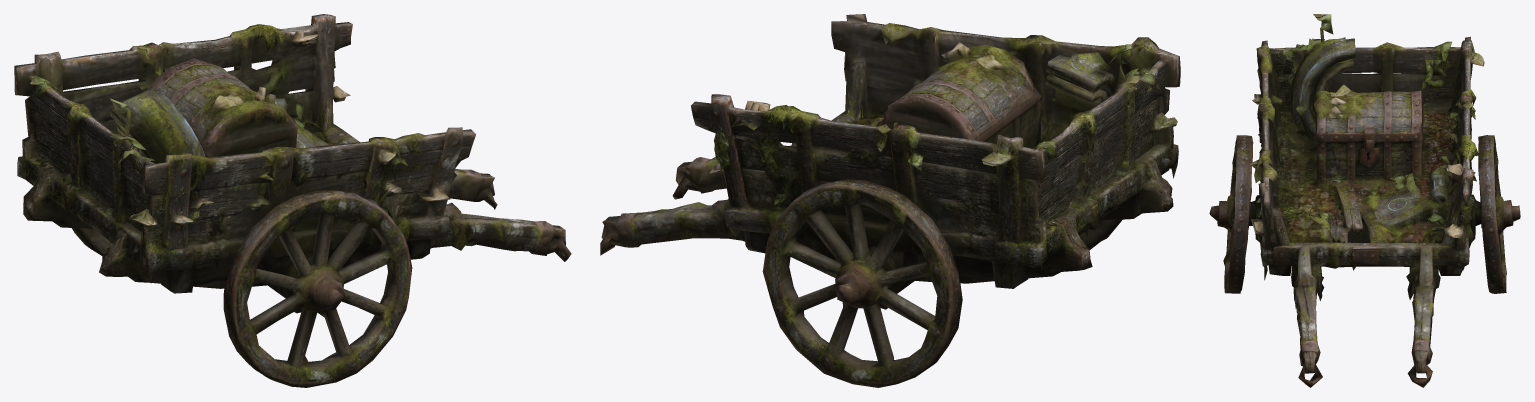
File: env_bw_cart.glb
The picture shows the model from 3 angles, left to right: view 1: azimuth 30°, elevation 25°; view 2: azimuth 150°, elevation 25°; view 3: azimuth 270°, elevation 25°; orthographic projection. The views are drawn at different scales.
Parts seen in each view (by area): view 1: tripo_node_f423cf80-a54a-4791-a0dd-53c70de55af1; view 2: tripo_node_f423cf80-a54a-4791-a0dd-53c70de55af1; view 3: tripo_node_f423cf80-a54a-4791-a0dd-53c70de55af1.
Boxes of the visible parts, box(x1,y1,x2,y2) form: tripo_node_f423cf80-a54a-4791-a0dd-53c70de55af1: box(14, 14, 571, 387); tripo_node_f423cf80-a54a-4791-a0dd-53c70de55af1: box(600, 14, 1180, 387); tripo_node_f423cf80-a54a-4791-a0dd-53c70de55af1: box(1209, 14, 1520, 387).
Size of the model in its own units: 1 by 0.5607 by 0.7347.
Materials: 1 (1 with a texture image).
